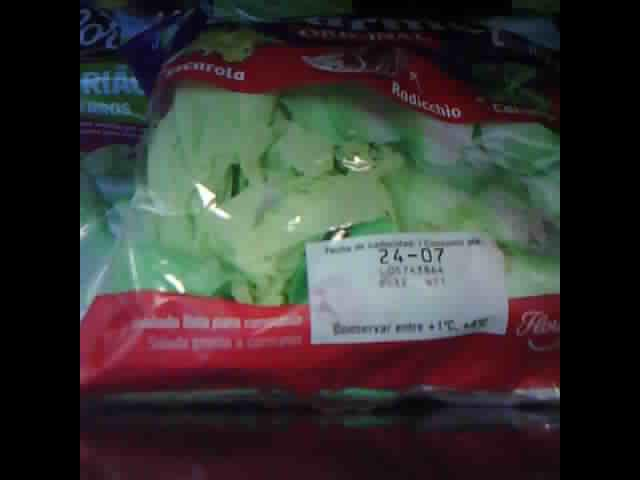florette: (79, 10, 564, 411), (82, 1, 204, 220)
